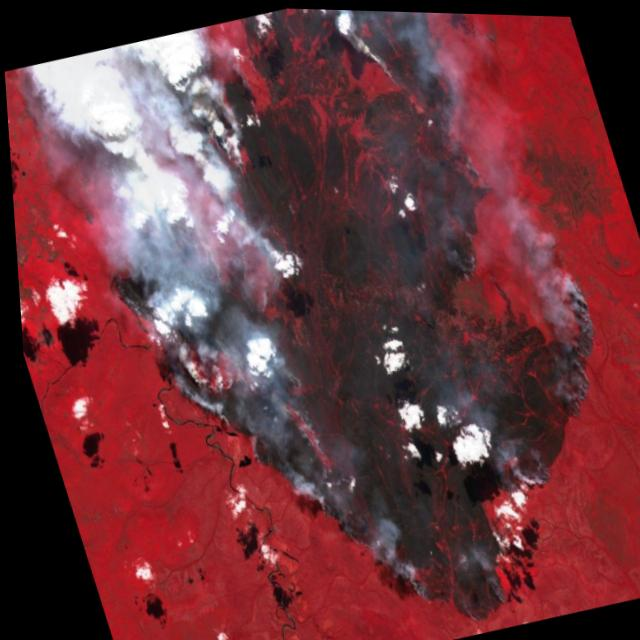fire: (48, 1, 640, 640)
